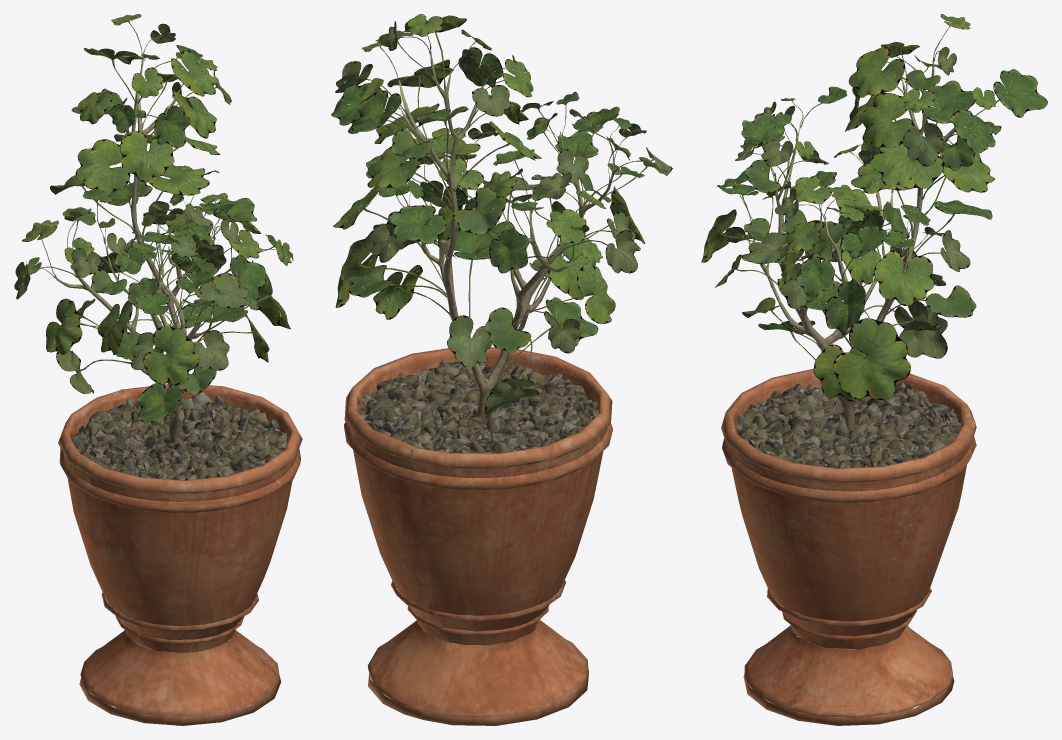
File: potted_plant_01.glb
The picture shows the model from 3 angles, left to right: view 1: azimuth 30°, elevation 25°; view 2: azimuth 150°, elevation 25°; view 3: azimuth 270°, elevation 25°; orthographic projection. The views are drawn at different scales.
Parts seen in each view (by area): view 1: potted_plant_01_pot, potted_plant_01_leaves, potted_plant_01_pebbles, potted_plant_01_stem; view 2: potted_plant_01_pot, potted_plant_01_leaves, potted_plant_01_pebbles, potted_plant_01_stem; view 3: potted_plant_01_pot, potted_plant_01_leaves, potted_plant_01_pebbles, potted_plant_01_stem.
Part boxes in pixels (<box>): potted_plant_01_pot: <box>58,384,302,725</box>; potted_plant_01_leaves: <box>14,14,293,423</box>; potted_plant_01_pebbles: <box>71,392,286,493</box>; potted_plant_01_stem: <box>54,54,243,442</box>; potted_plant_01_pot: <box>344,347,612,725</box>; potted_plant_01_leaves: <box>331,14,672,414</box>; potted_plant_01_pebbles: <box>358,360,598,467</box>; potted_plant_01_stem: <box>399,48,614,420</box>; potted_plant_01_pot: <box>721,369,976,725</box>; potted_plant_01_leaves: <box>701,14,1047,401</box>; potted_plant_01_pebbles: <box>736,382,961,482</box>; potted_plant_01_stem: <box>752,55,967,430</box>.
Size of the model in its own units: 0.5874 by 1.34 by 0.6336.
Materials: 2 (2 with a texture image).
